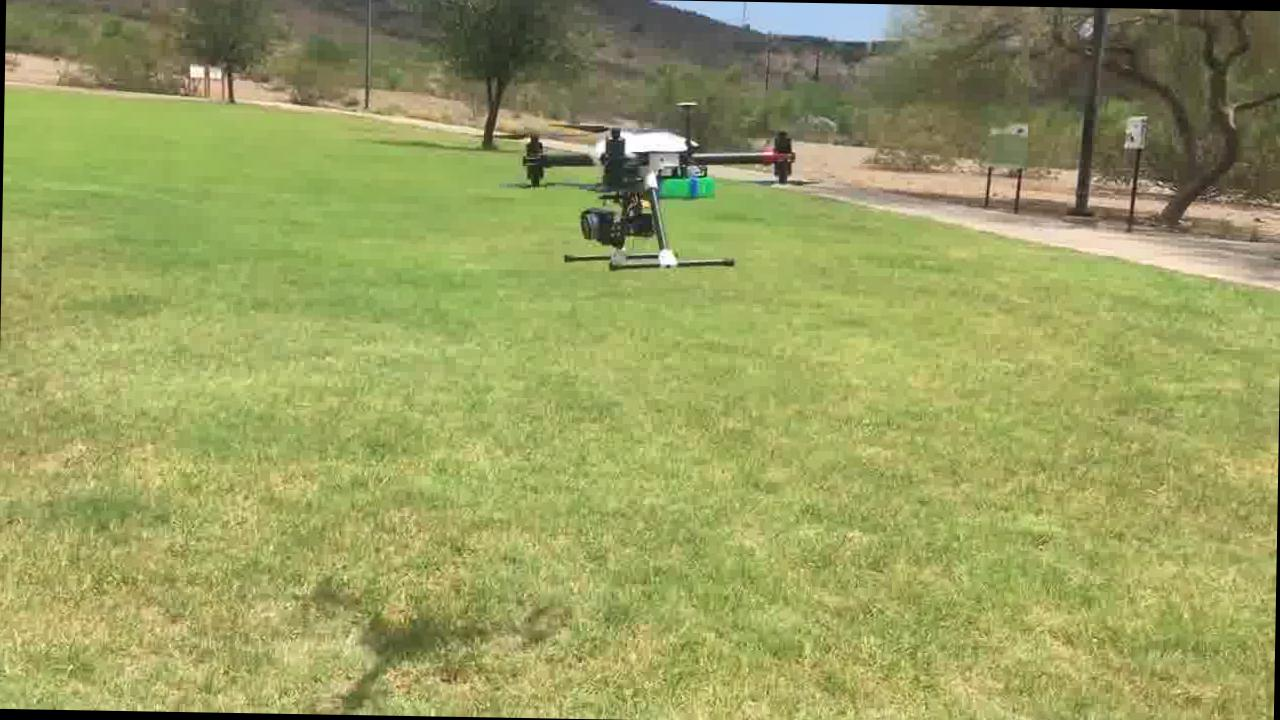drone: (501, 110, 800, 274)
